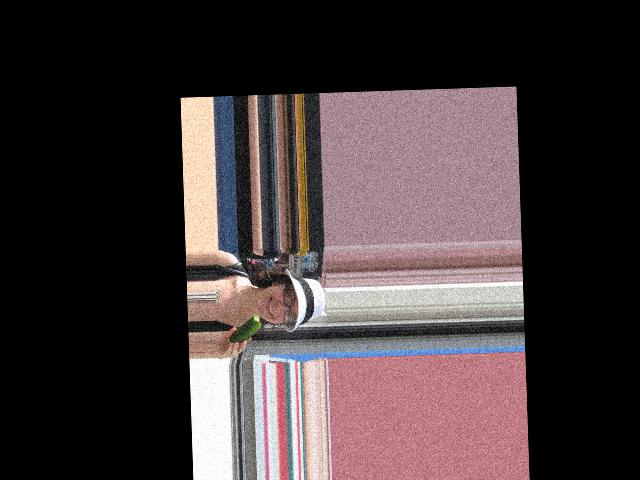cucumber: (228, 314, 261, 344)
